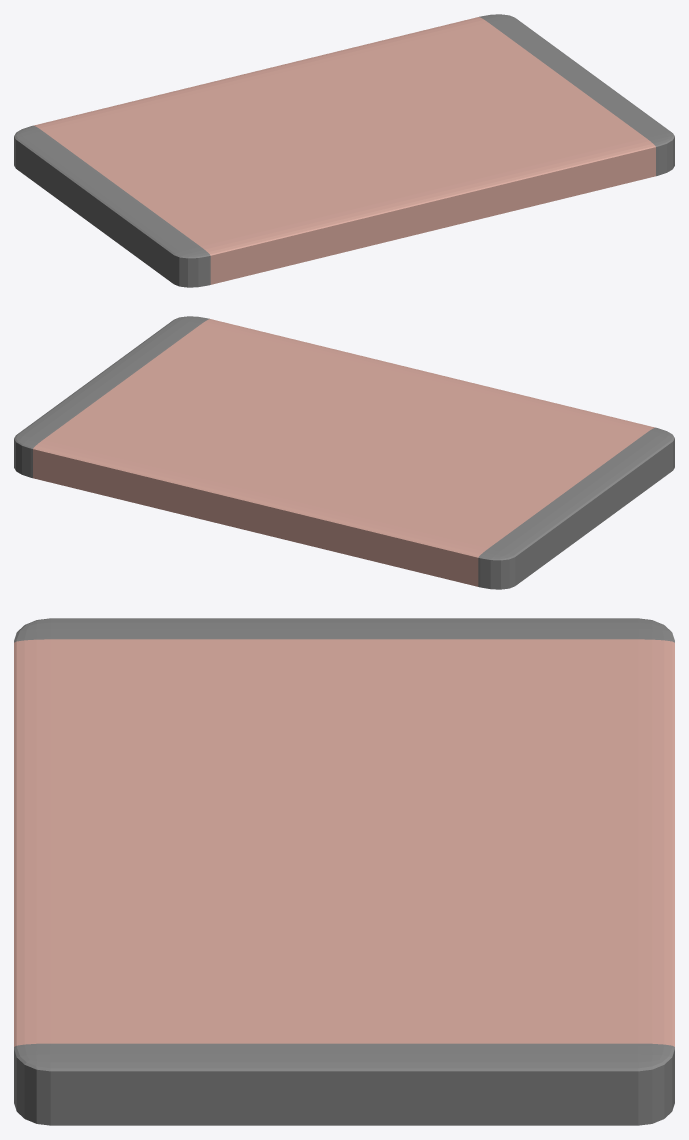
File: PlatformAsset.fbx
3 views of the same model, one above another, from view 1: azimuth 30°, elevation 25°; view 2: azimuth 150°, elevation 25°; view 3: azimuth 270°, elevation 25° (orthographic). The views are drawn at different scales.
Parts seen in each view (by area): view 1: Cube.002; view 2: Cube.002; view 3: Cube.002.
Part boxes in pixels (bbox=[...]): Cube.002: bbox=[14, 14, 674, 287]; Cube.002: bbox=[14, 316, 674, 589]; Cube.002: bbox=[14, 618, 674, 1125].
Size of the model in its own units: 457 by 28.7 by 282.
